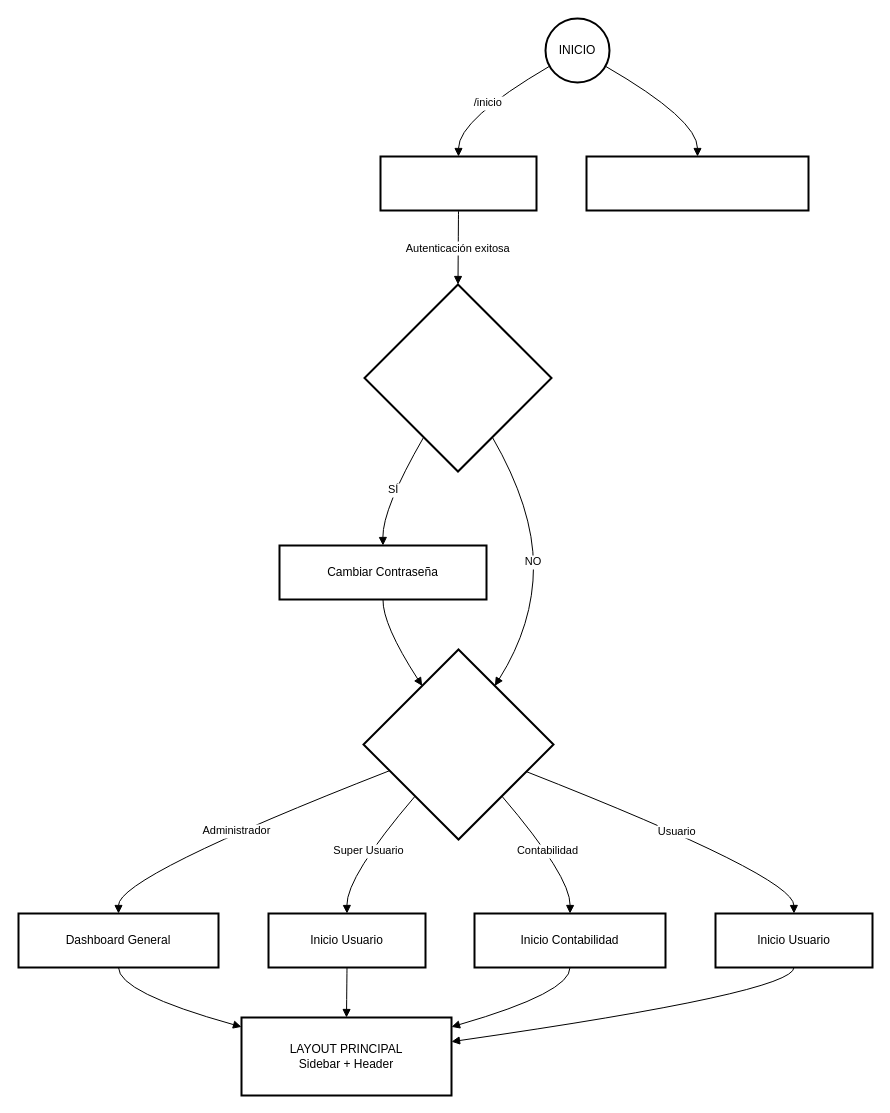
This 890x1113 diagram has some shape labels left out. The shapes that lost their labels are listed below. From the top down, each one's centre as x and y in pixels, then its label:
At point (458, 183): "Iniciar Sesión".
At point (697, 183): "Recuperar Contraseña".
At point (457, 377): "¿Debe cambiar contraseña?".
At point (458, 744): "Redirigir según Rol".
